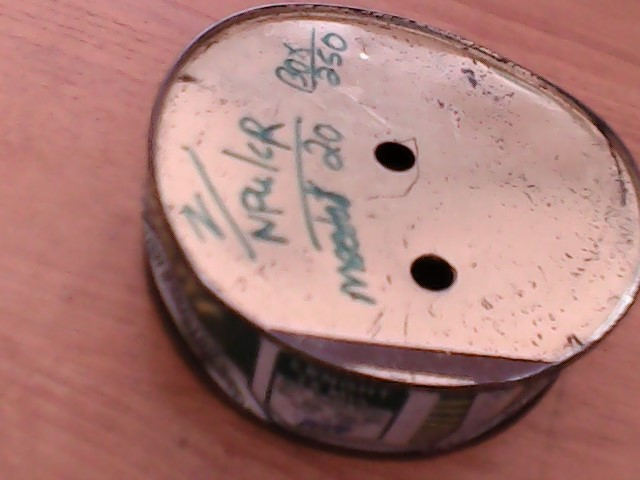Metal: (134, 0, 640, 480)
